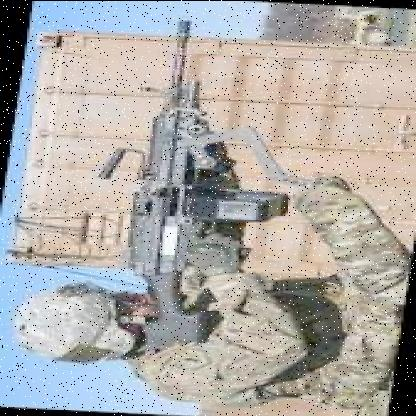rifle: (96, 11, 258, 341)
